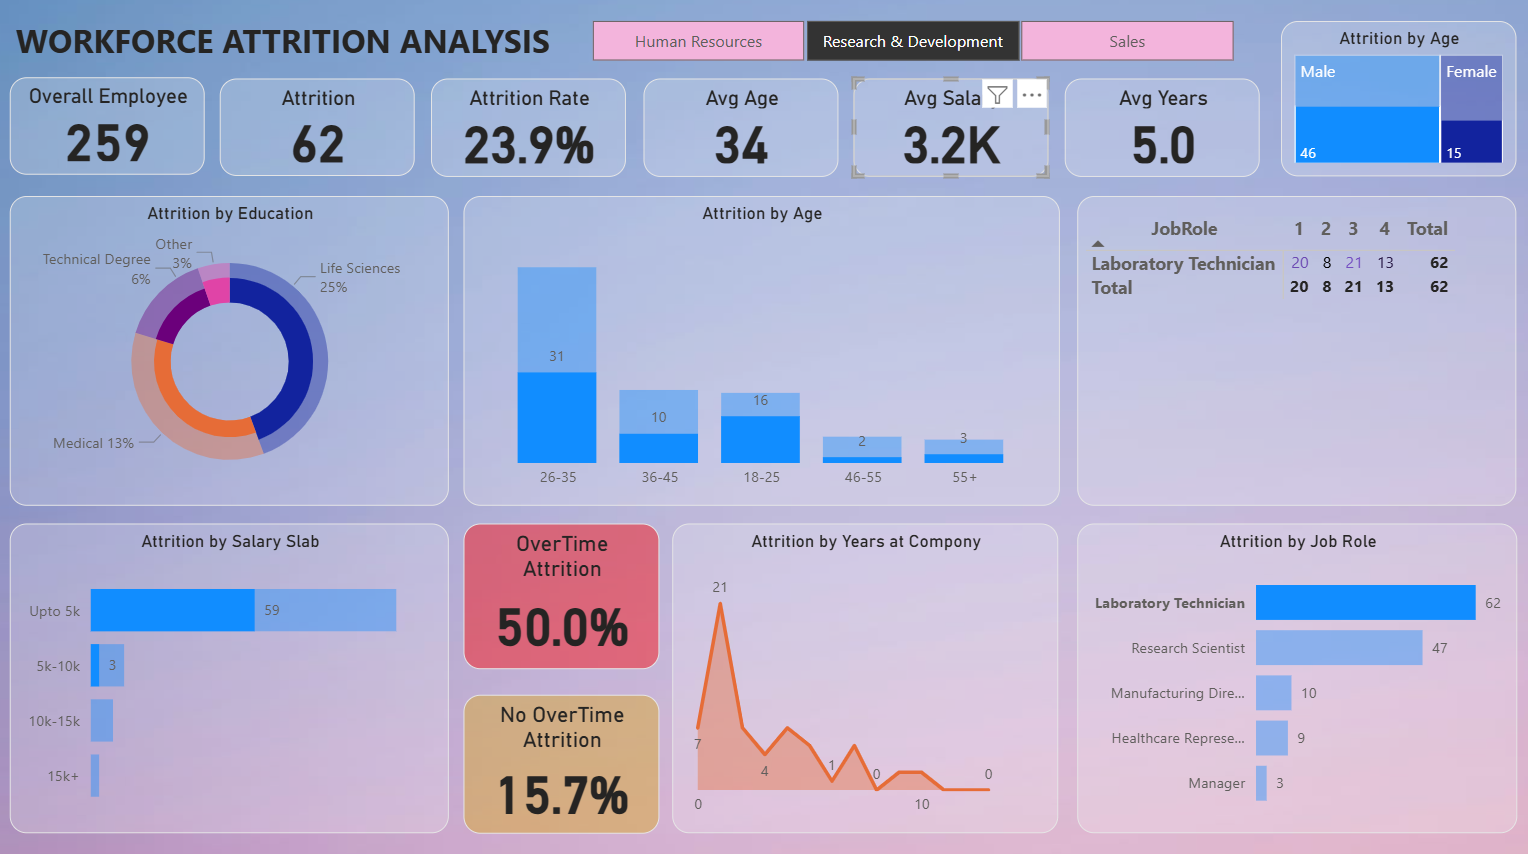

What the dashboard file says about the page in this screenshot:
{"tool":"powerbi","page":{"name":"Page 1","canvas":[1280,720],"ordinal":0},"visuals":[{"type":"card","title":"Overall Employee","fields":{"Values":["Count(HR_Analytics.EmpID)"]},"box":[15.8,71.6,161.9,81],"z":0},{"type":"card","title":"Attrition","fields":{"Values":["Sum(HR_Analytics.Attrition Count)"]},"box":[190.1,72.9,161.9,81],"z":1000},{"type":"card","title":"Attrition Rate","fields":{"Values":["HR_Analytics.AttritionRate"]},"box":[365,72.7,161.9,81.2],"z":2000},{"type":"card","title":"Avg Age","fields":{"Values":["Avg(HR_Analytics.Age)"]},"box":[540.6,72.7,161.9,81.2],"z":3000},{"type":"card","title":"Avg Salary","fields":{"Values":["Avg(HR_Analytics.MonthlyIncome)"]},"box":[715,72.7,161.9,81.2],"z":4000},{"type":"card","title":"Avg Years","fields":{"Values":["Avg(HR_Analytics.YearsAtCompany)"]},"box":[890,72.7,161.9,81.2],"z":5000},{"type":"donutChart","title":"Attrition by Education","fields":{"Category":["HR_Analytics.EducationField"],"Y":["Sum(HR_Analytics.Attrition Count)"]},"box":[15.7,170,364.3,257.1],"z":6000},{"type":"columnChart","title":"Attrition by Age","fields":{"Category":["HR_Analytics.AgeGroup"],"Y":["Sum(HR_Analytics.Attrition Count)"]},"box":[391.4,170,494.3,257.1],"z":7000},{"type":"pivotTable","fields":{"Rows":["HR_Analytics.JobRole"],"Columns":["HR_Analytics.JobSatisfaction"],"Values":["Sum(HR_Analytics.Attrition Count)"]},"box":[900.2,170.2,363.6,256.6],"z":8000},{"type":"barChart","title":"Attrition by Salary Slab","fields":{"Category":["HR_Analytics.SalarySlab"],"Y":["Sum(HR_Analytics.Attrition Count)"]},"box":[15.7,441.4,364.3,257.1],"z":9000},{"type":"clusteredBarChart","title":"Attrition by Job Role","fields":{"Category":["HR_Analytics.JobRole"],"Y":["Sum(HR_Analytics.Attrition Count)"]},"box":[900.2,441.9,365,256.6],"z":10000},{"type":"areaChart","title":"Attrition by Years at Compony","fields":{"Category":["HR_Analytics.YearsAtCompany"],"Y":["Sum(HR_Analytics.Attrition Count)"]},"box":[565.1,441.8,320.1,256.7],"z":11000},{"type":"treemap","title":"Attrition by Age","fields":{"Group":["HR_Analytics.Gender"],"Values":["Sum(HR_Analytics.Attrition Count)"]},"box":[1069,24.7,194.9,129],"z":12000},{"type":"slicer","fields":{"Values":["HR_Analytics.Department"]},"box":[472.9,17.1,581.4,47.1],"z":13000},{"type":"textbox","box":[15.7,17.1,464.3,71.4],"z":14000},{"type":"card","title":"No OverTime Attrition","fields":{"Values":["HR_Analytics.Attrition Rate (OverTime No)"]},"box":[391.5,583.1,162.3,115.4],"z":15000},{"type":"card","title":"OverTime  Attrition","fields":{"Values":["HR_Analytics.Attrition Rate (OverTime Yes)"]},"box":[391.5,441.5,162.3,120.8],"z":16000}]}

Visuals, with their boxes in screenshot pixels (x1, y1, x2, y2), scaled from the page's 1280x720 canvas onto the 1528x854 screenshot:
"Overall Employee" card: 19, 85, 212, 181
"Attrition" card: 227, 86, 420, 183
"Attrition Rate" card: 436, 86, 629, 183
"Avg Age" card: 645, 86, 839, 183
"Avg Salary" card: 854, 86, 1047, 183
"Avg Years" card: 1062, 86, 1256, 183
"Attrition by Education" donutChart: 19, 202, 454, 507
"Attrition by Age" columnChart: 467, 202, 1057, 507
pivotTable - HR_Analytics.JobRole x HR_Analytics.JobSatisfaction: 1075, 202, 1509, 506
"Attrition by Salary Slab" barChart: 19, 524, 454, 828
"Attrition by Job Role" clusteredBarChart: 1075, 524, 1510, 828
"Attrition by Years at Compony" areaChart: 675, 524, 1057, 828
"Attrition by Age" treemap: 1276, 29, 1509, 182
slicer - HR_Analytics.Department: 565, 20, 1259, 76
textbox: 19, 20, 573, 105
"No OverTime Attrition" card: 467, 692, 661, 828
"OverTime  Attrition" card: 467, 524, 661, 667
